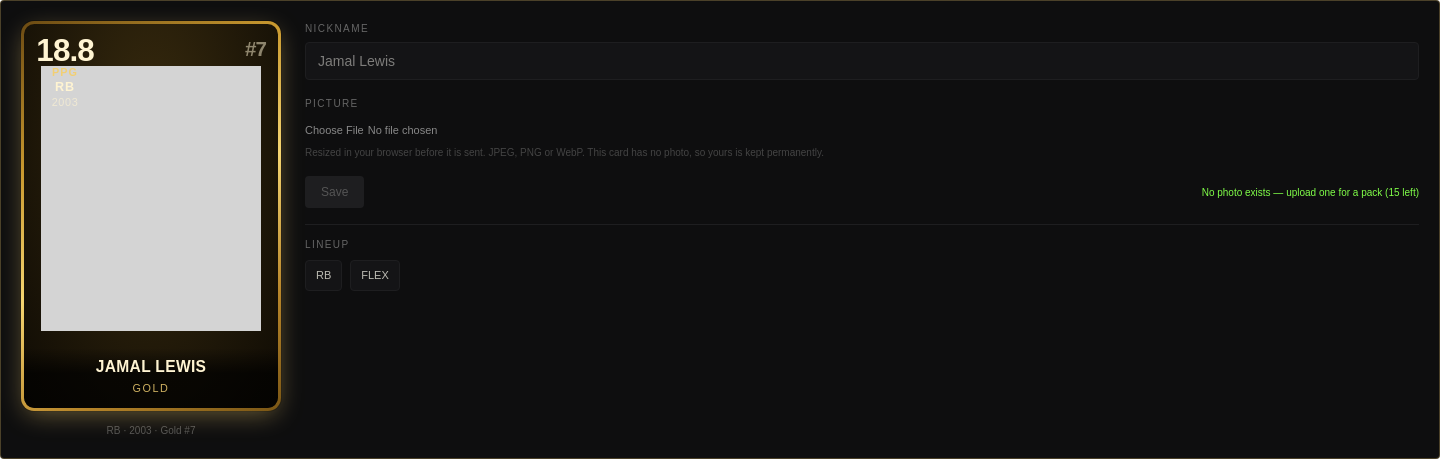
Test: CardDetail › disables Save until something changes
Check: the button "Save" is disabled, box top-left (305, 176), bottom-right (364, 208)
In the field labelled "Nickname": [862, 61] box top-left (305, 42), bottom-right (1419, 80), type "The Bus"
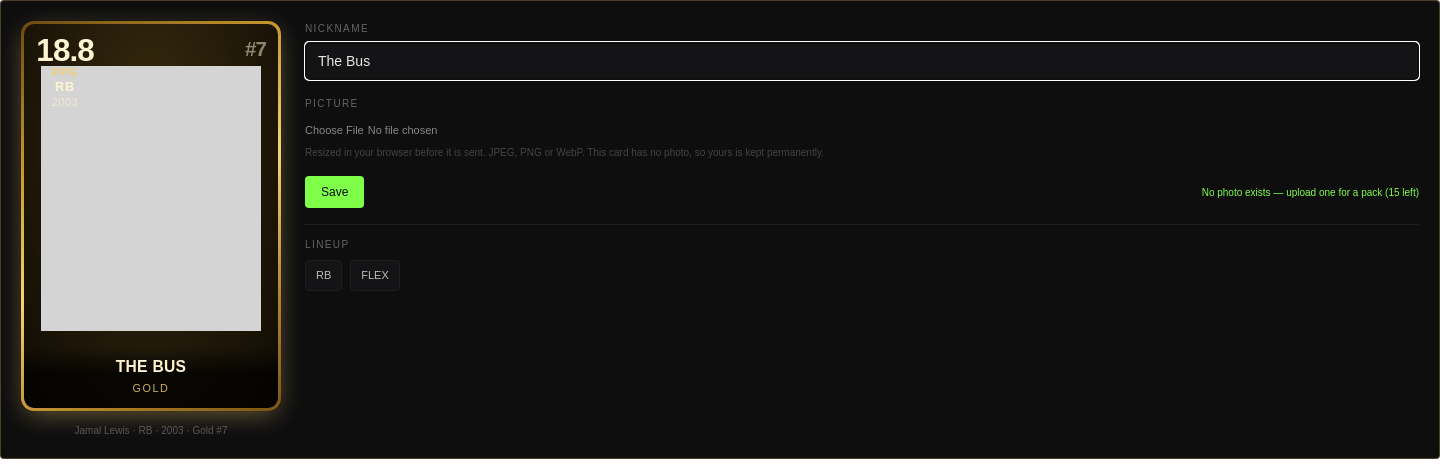
Check: the button "Save" is enabled, box top-left (305, 176), bottom-right (364, 208)
